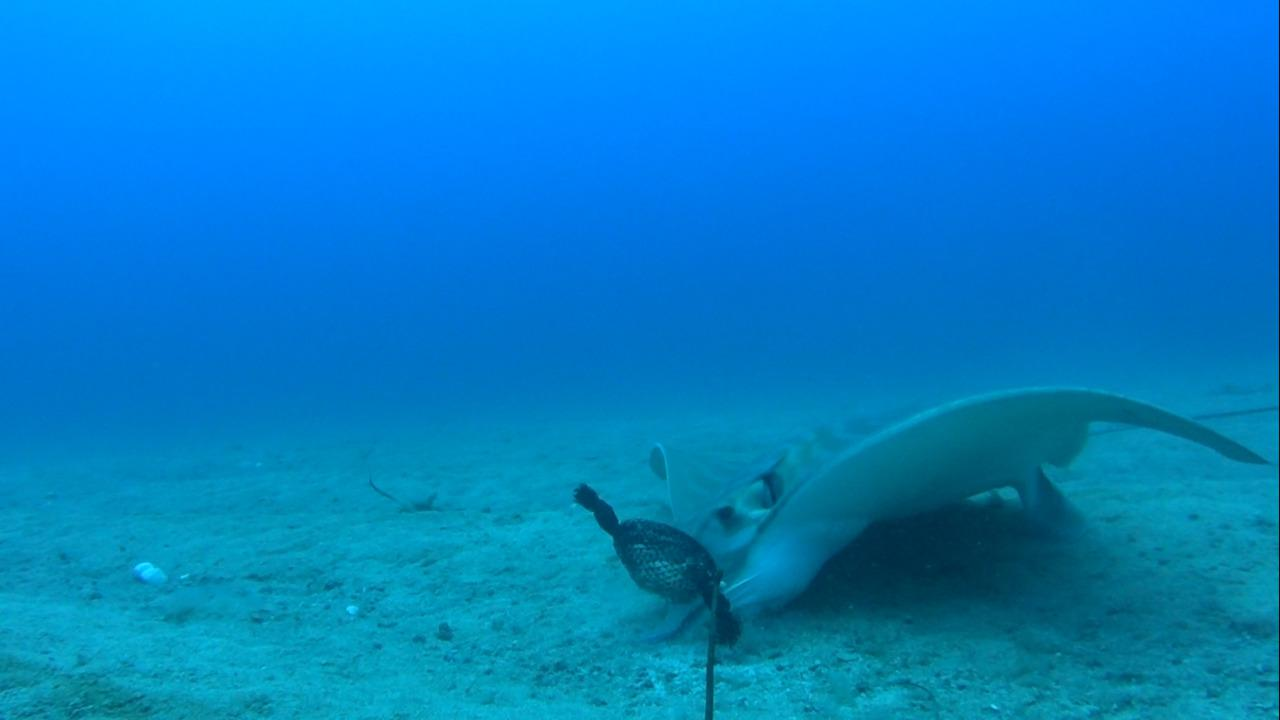myliobatis: (630, 377, 1279, 643)
